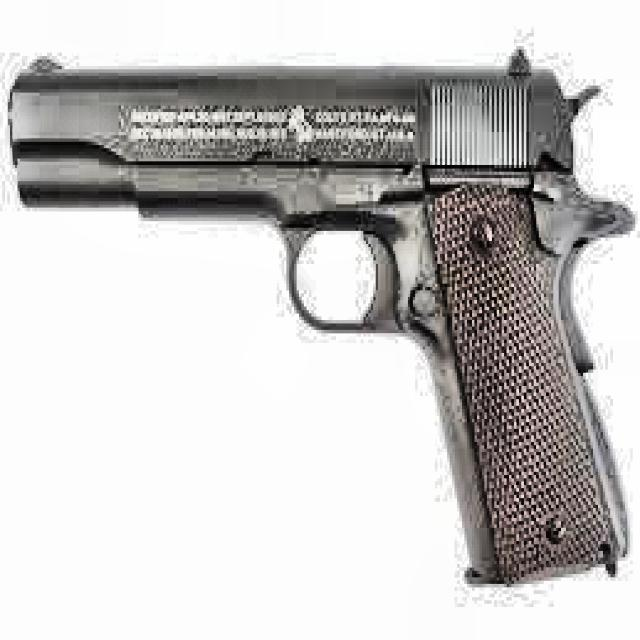Colt m1911: (5, 43, 635, 587)
